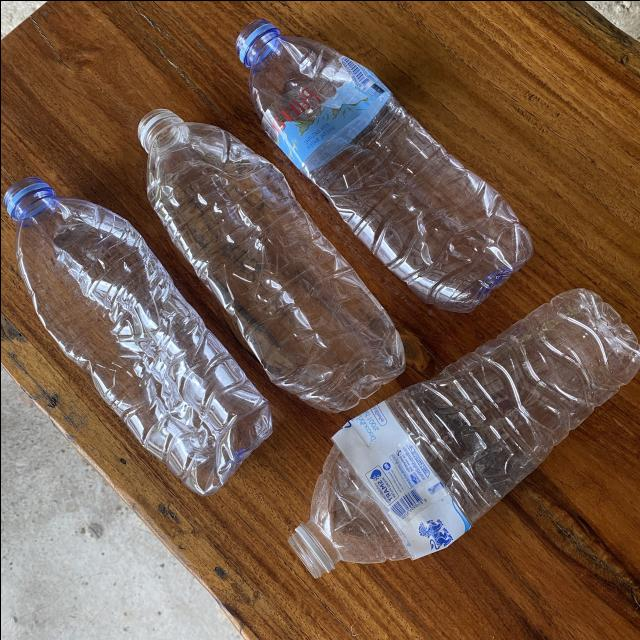plastik: (288, 288, 640, 575), (235, 19, 532, 311), (3, 178, 271, 495), (137, 108, 403, 411)
